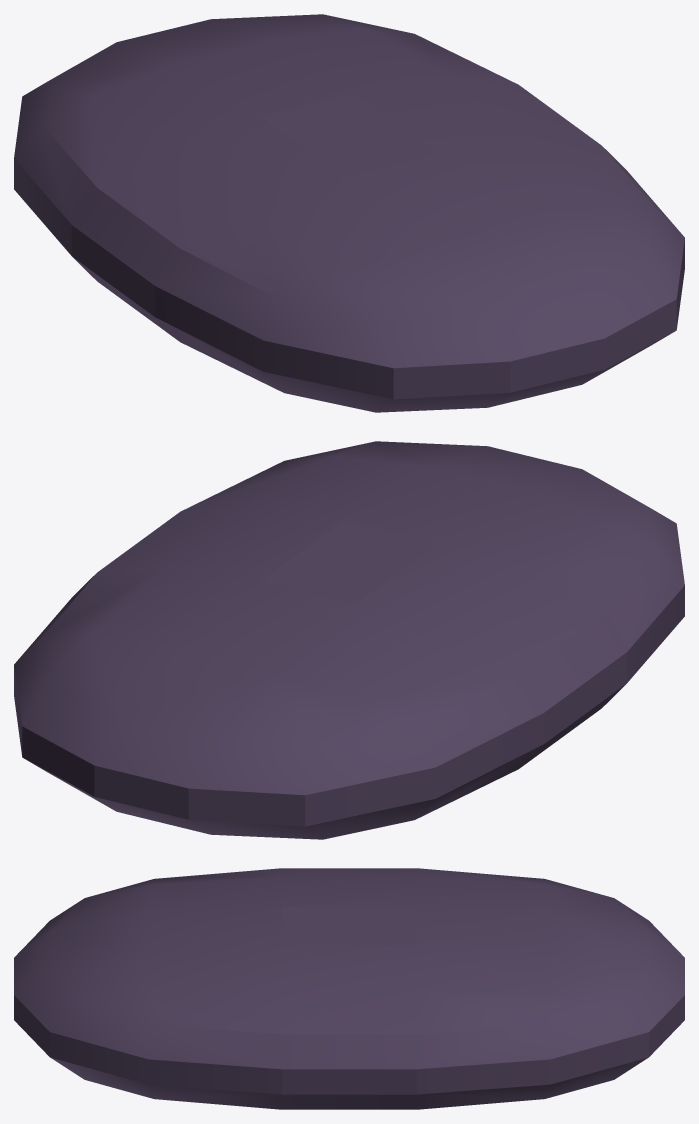
The model's file is pillow.glb.
3 views of the same model, one above another, from view 1: azimuth 30°, elevation 25°; view 2: azimuth 150°, elevation 25°; view 3: azimuth 270°, elevation 25° (orthographic). The views are drawn at different scales.
Visible parts, largest first — view 1: pillow; view 2: pillow; view 3: pillow.
Boxes of the visible parts, bbox=[...] form: pillow: bbox=[14, 14, 684, 412]; pillow: bbox=[14, 441, 684, 839]; pillow: bbox=[14, 868, 684, 1109].
Size of the model in its own units: 1.33 by 0.4208 by 2.03.
